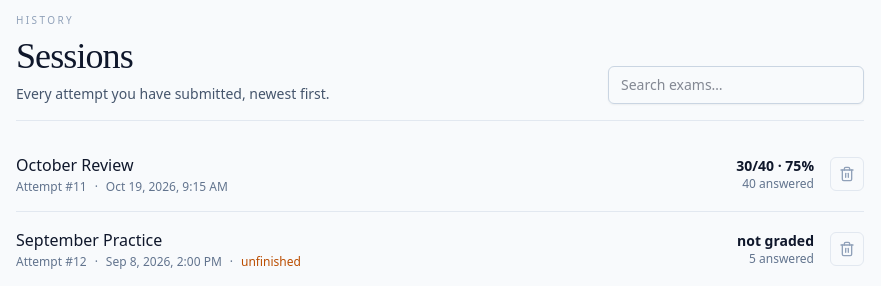
SessionsPage › filters by title
Expected: the link "October Review" is shown, [16,154,134,176]
Type "september" into the search field named "Search sessions" at {"x": 736, "y": 85}, box [608,66,864,104]
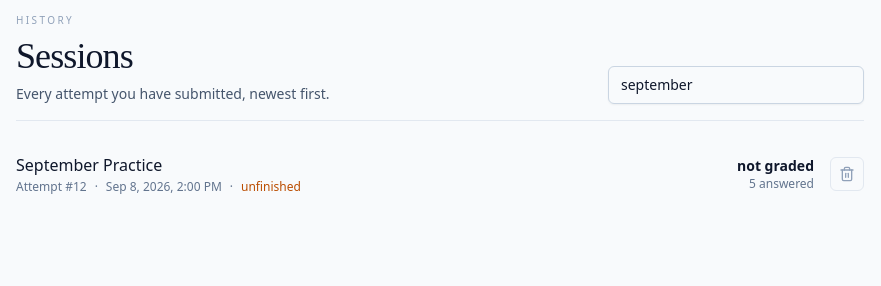
Expected: the link "September Practice" is shown, [16,154,162,176]
Result: the link "October Review" is gone
